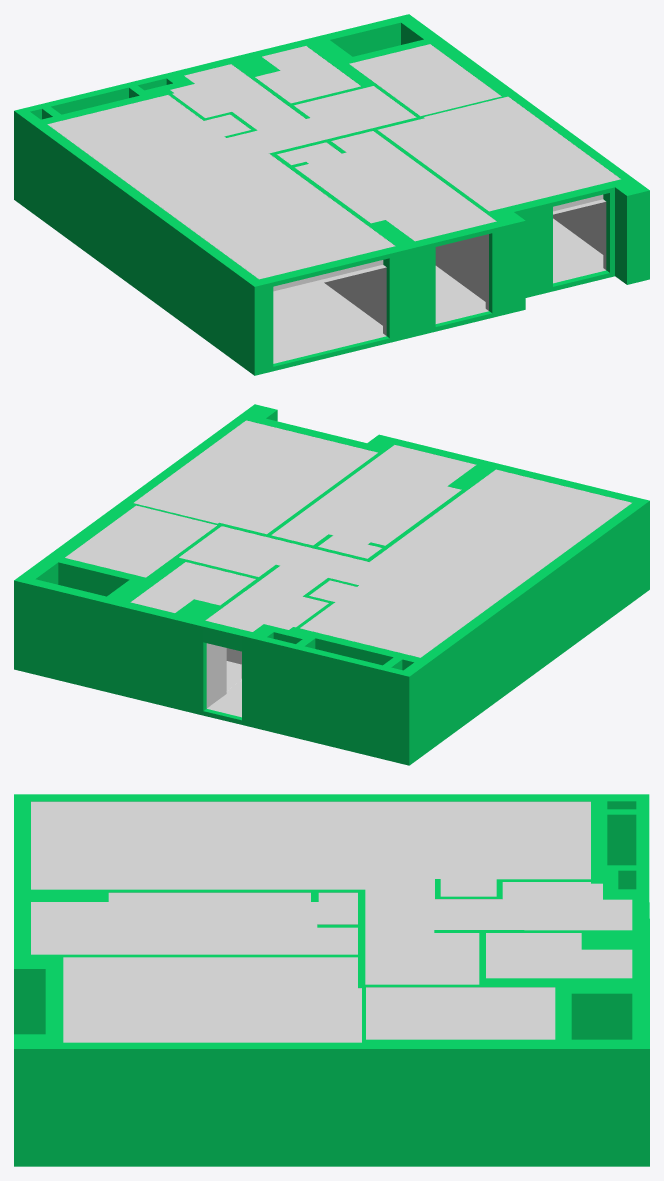
File: Flat2.fbx
3 renders of one model, top to bottom at view 1: azimuth 30°, elevation 25°; view 2: azimuth 150°, elevation 25°; view 3: azimuth 270°, elevation 25°, orthographic. The views are drawn at different scales.
Parts seen in each view (by area): view 1: Cube, ЗалПотолок, комната2Потолок, комната1Потолок, коридорПотолок, ванная2Потолок, ЗалПол, ЗалОбои, ванная1Потолок, комната1Обои, комната2Обои, комната2Пол (+1 smaller); view 2: Cube, ЗалПотолок, комната2Потолок, комната1Потолок, коридорПотолок, ванная2Потолок, ванная1Потолок, коридорОбои, коридорПол; view 3: Cube, ЗалПотолок, комната2Потолок, комната1Потолок, коридорПотолок, ванная2Потолок, ванная1Потолок.
Part boxes in pixels (x1,y1,x2,y2): Cube: (14, 14, 649, 375); ЗалПотолок: (47, 95, 395, 279); комната2Потолок: (377, 96, 620, 211); комната1Потолок: (277, 131, 496, 241); коридорПотолок: (170, 64, 416, 152); ванная2Потолок: (349, 44, 501, 116); ЗалПол: (273, 282, 382, 360); ЗалОбои: (273, 260, 386, 363); ванная1Потолок: (255, 46, 360, 103); комната1Обои: (295, 167, 488, 323); комната2Обои: (553, 194, 606, 283); комната2Пол: (553, 218, 603, 280); Cube: (14, 404, 649, 765); ЗалПотолок: (300, 469, 631, 657); комната2Потолок: (134, 420, 377, 534); комната1Потолок: (271, 445, 476, 558); коридорПотолок: (179, 526, 366, 631); ванная2Потолок: (65, 505, 216, 577); ванная1Потолок: (130, 562, 255, 612); коридорОбои: (206, 643, 241, 717); коридорПол: (210, 680, 241, 713); Cube: (14, 794, 649, 1166); ЗалПотолок: (31, 801, 590, 896); комната2Потолок: (63, 957, 361, 1042); комната1Потолок: (31, 892, 357, 954); коридорПотолок: (365, 882, 632, 984); ванная2Потолок: (366, 987, 555, 1039); ванная1Потолок: (486, 933, 632, 978).
Size of the model in its own units: 1859 by 400 by 1963.
